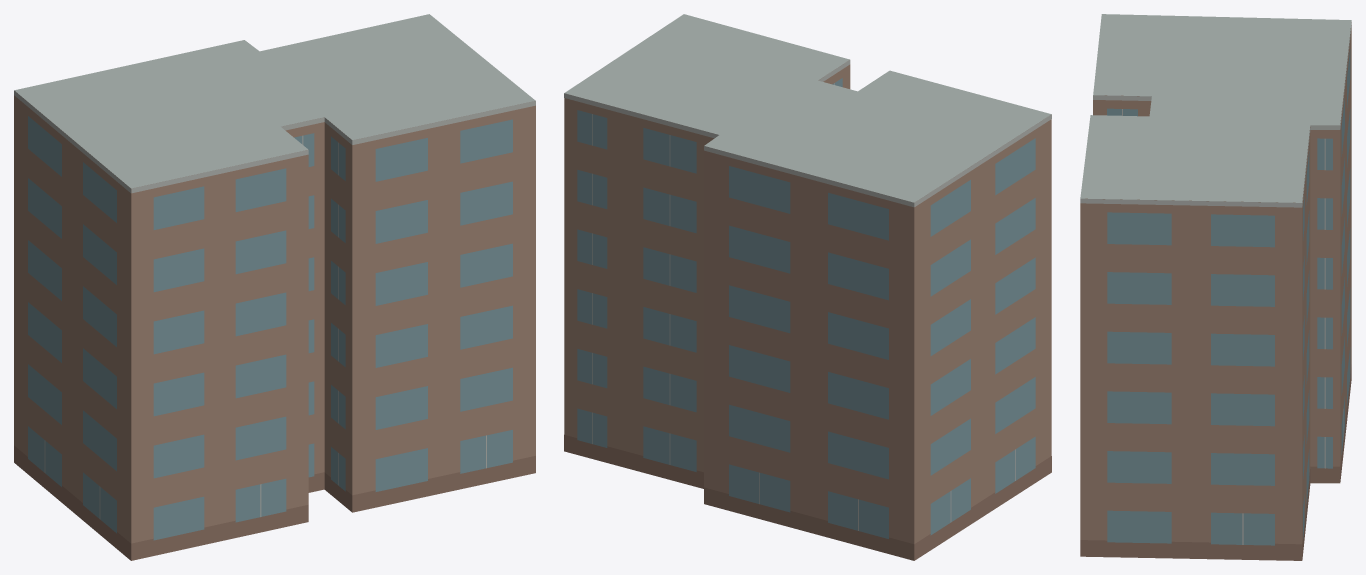
File: survey-upis-32737846.glb
3 renders of one model, left to right at view 1: azimuth 30°, elevation 25°; view 2: azimuth 150°, elevation 25°; view 3: azimuth 270°, elevation 25°, orthographic. The views are drawn at different scales.
Visible parts, largest first — view 1: survey-upis-32737846.tmp; view 2: survey-upis-32737846.tmp; view 3: survey-upis-32737846.tmp.
Boxes of the visible parts, bbox=[...] form: survey-upis-32737846.tmp: bbox=[14, 14, 535, 560]; survey-upis-32737846.tmp: bbox=[564, 14, 1051, 560]; survey-upis-32737846.tmp: bbox=[1080, 14, 1351, 560].
Size of the model in its own units: 20.95 by 18.5 by 12.72.
